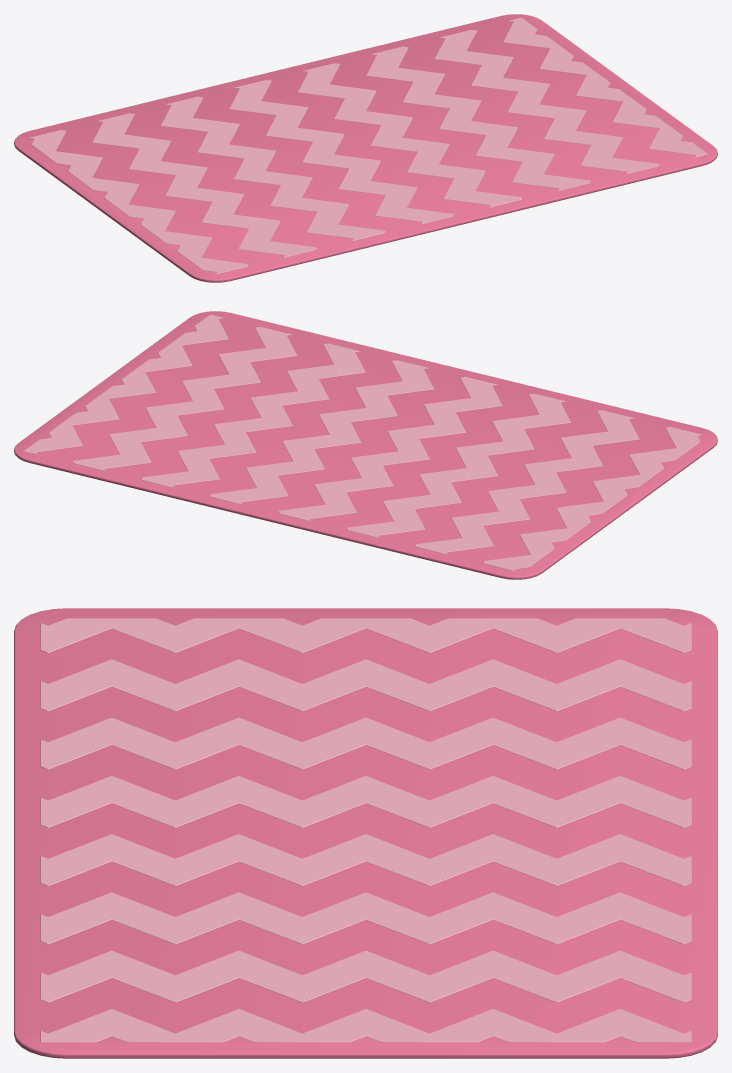
The model's file is tapete_zigue_zague_rosa.glb.
3 views of the same model, one above another, from view 1: azimuth 30°, elevation 25°; view 2: azimuth 150°, elevation 25°; view 3: azimuth 270°, elevation 25° (orthographic). The views are drawn at different scales.
Parts seen in each view (by area): view 1: tapete_zigue_zague_rosa; view 2: tapete_zigue_zague_rosa; view 3: tapete_zigue_zague_rosa.
Boxes of the visible parts, x1,y1,x2,y2 form: tapete_zigue_zague_rosa: (14, 14, 717, 282); tapete_zigue_zague_rosa: (14, 311, 717, 579); tapete_zigue_zague_rosa: (14, 608, 717, 1058).
Size of the model in its own units: 1.8 by 0.0116 by 1.2.
Materials: 1 (1 with a texture image).
